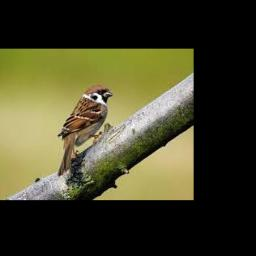Sparrow: (58, 85, 113, 176)
